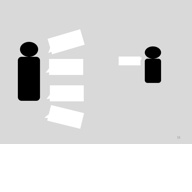left_oneway: (42, 27, 89, 55), (42, 104, 88, 130), (44, 56, 87, 78), (44, 81, 86, 103)
right_oneway: (115, 52, 144, 68)
